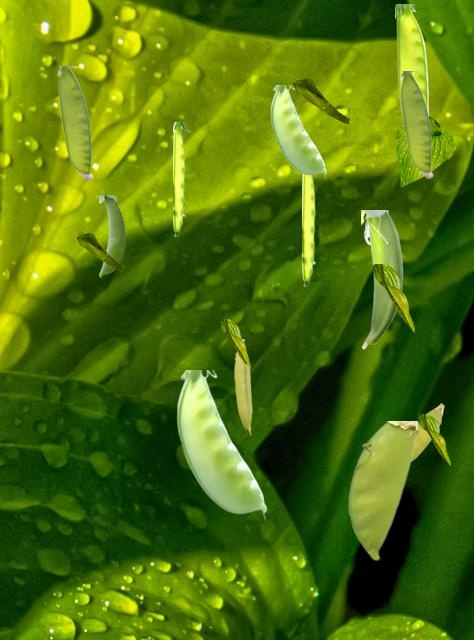pea: (176, 370, 265, 521), (348, 421, 416, 559), (361, 210, 403, 348), (270, 85, 325, 179), (58, 66, 92, 179), (395, 4, 427, 115), (400, 71, 432, 177), (99, 195, 124, 276), (173, 122, 189, 235), (413, 403, 443, 460), (234, 336, 251, 434), (302, 175, 316, 285)
